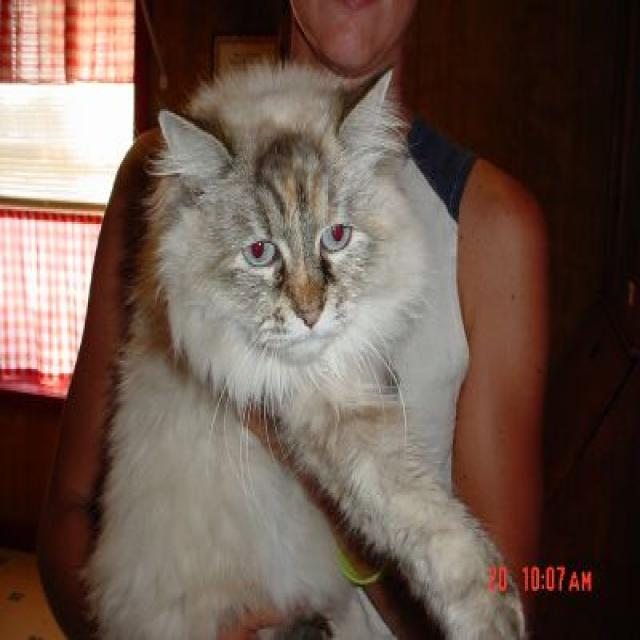cats: (90, 66, 525, 640)
